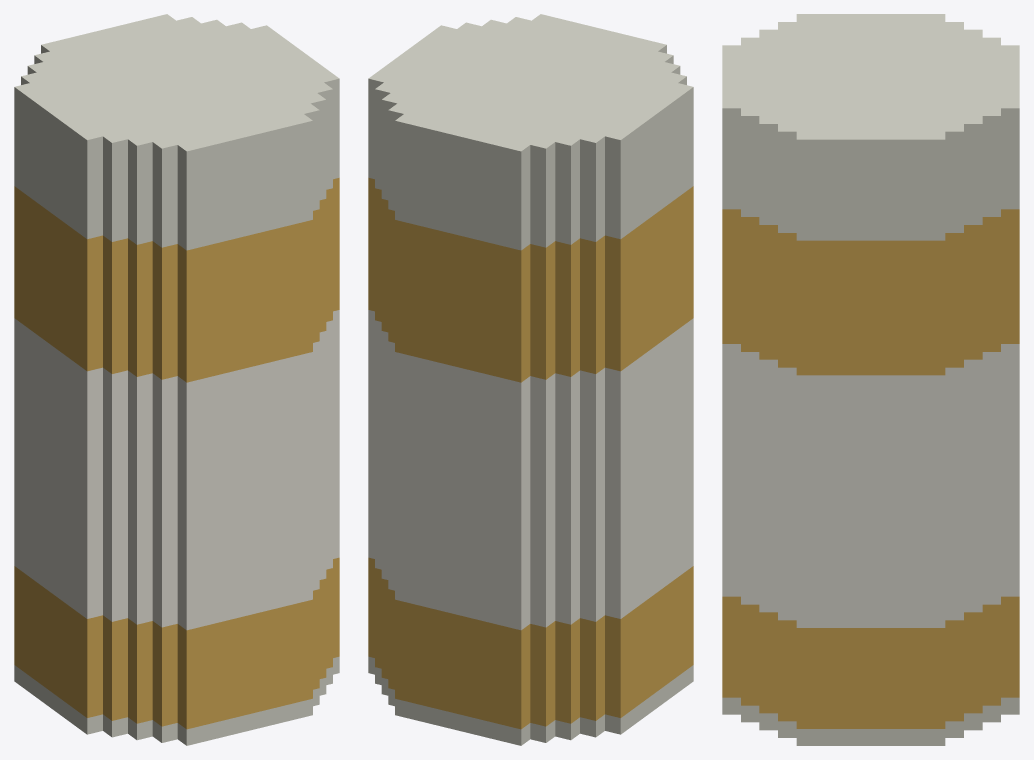
File: prescription_stimulant.glb
The picture shows the model from 3 angles, left to right: view 1: azimuth 30°, elevation 25°; view 2: azimuth 150°, elevation 25°; view 3: azimuth 270°, elevation 25°; orthographic projection.
Visible parts, largest first — view 1: prescription_stimulant:vessel; view 2: prescription_stimulant:vessel; view 3: prescription_stimulant:vessel.
Part boxes in pixels (left/top/right/bottom): prescription_stimulant:vessel: left=14, top=14, right=339, bottom=745; prescription_stimulant:vessel: left=368, top=14, right=693, bottom=745; prescription_stimulant:vessel: left=722, top=14, right=1019, bottom=745.
Bounding box in the file's own units: 0.032 × 0.072 × 0.032.
